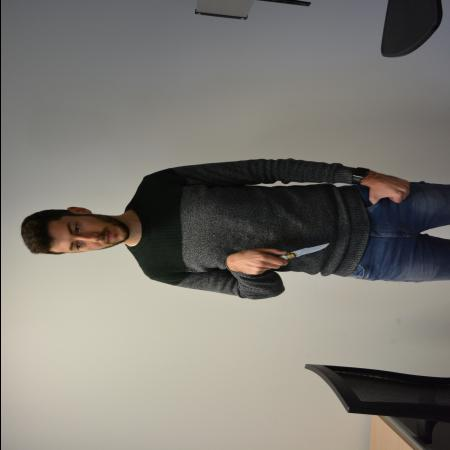long weapon: (262, 241, 332, 272)
